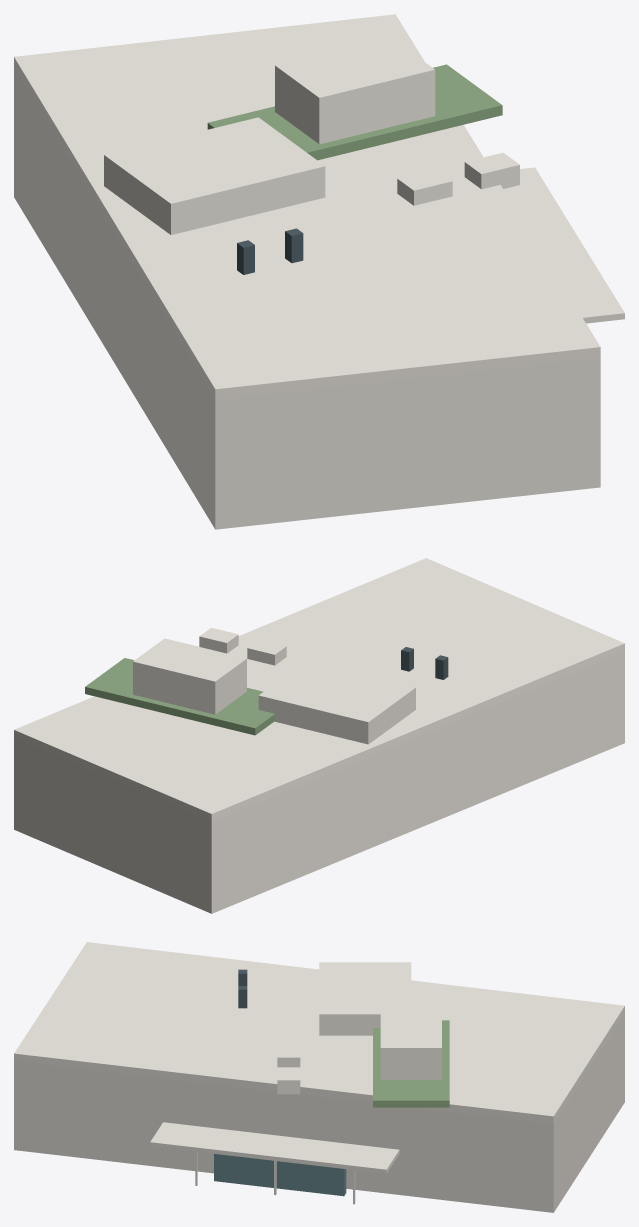
The model's file is fong_shu_chuen_hall.glb.
The picture shows the model from 3 angles, top to bottom: view 1: azimuth 30°, elevation 25°; view 2: azimuth 150°, elevation 25°; view 3: azimuth 270°, elevation 25°; orthographic projection. The views are drawn at different scales.
Visible parts, largest first — view 1: Fong Shu Chuen Hall_parapet, Fong Shu Chuen Hall_mass, Fong Shu Chuen Hall_roof_plant, Fong Shu Chuen Hall_pavilion, Fong Shu Chuen Hall_canopy, Fong Shu Chuen Hall_garden, Fong Shu Chuen Hall_ac_1, Fong Shu Chuen Hall_ac_0; view 2: Fong Shu Chuen Hall_mass, Fong Shu Chuen Hall_parapet, Fong Shu Chuen Hall_roof_plant, Fong Shu Chuen Hall_pavilion, Fong Shu Chuen Hall_garden, Fong Shu Chuen Hall_ac_0, Fong Shu Chuen Hall_ac_1; view 3: Fong Shu Chuen Hall_parapet, Fong Shu Chuen Hall_mass, Fong Shu Chuen Hall_canopy, Fong Shu Chuen Hall_roof_plant, Fong Shu Chuen Hall_pavilion, Fong Shu Chuen Hall_door, Fong Shu Chuen Hall_garden, Fong Shu Chuen Hall_ac_1, Fong Shu Chuen Hall_ac_0.
Boxes of the visible parts, <box> form: Fong Shu Chuen Hall_parapet: <box>14,14,600,400</box>; Fong Shu Chuen Hall_mass: <box>14,68,600,529</box>; Fong Shu Chuen Hall_roof_plant: <box>104,117,325,234</box>; Fong Shu Chuen Hall_pavilion: <box>275,37,435,144</box>; Fong Shu Chuen Hall_canopy: <box>503,167,624,323</box>; Fong Shu Chuen Hall_garden: <box>207,64,502,160</box>; Fong Shu Chuen Hall_ac_1: <box>464,152,519,189</box>; Fong Shu Chuen Hall_ac_0: <box>397,169,452,205</box>; Fong Shu Chuen Hall_mass: <box>14,651,624,913</box>; Fong Shu Chuen Hall_parapet: <box>14,558,624,821</box>; Fong Shu Chuen Hall_roof_plant: <box>258,660,415,744</box>; Fong Shu Chuen Hall_pavilion: <box>133,638,246,714</box>; Fong Shu Chuen Hall_garden: <box>85,658,274,735</box>; Fong Shu Chuen Hall_ac_0: <box>247,639,286,665</box>; Fong Shu Chuen Hall_ac_1: <box>199,627,238,653</box>; Fong Shu Chuen Hall_parapet: <box>14,942,624,1123</box>; Fong Shu Chuen Hall_mass: <box>14,1014,624,1212</box>; Fong Shu Chuen Hall_canopy: <box>150,1122,399,1173</box>; Fong Shu Chuen Hall_roof_plant: <box>319,962,411,1035</box>; Fong Shu Chuen Hall_pavilion: <box>380,1009,441,1079</box>; Fong Shu Chuen Hall_door: <box>214,1154,346,1196</box>; Fong Shu Chuen Hall_garden: <box>373,1020,449,1107</box>; Fong Shu Chuen Hall_ac_1: <box>277,1067,300,1094</box>; Fong Shu Chuen Hall_ac_0: <box>277,1044,300,1067</box>.
Bounding box in the file's own units: 27.86 × 9.8 × 39.86.
